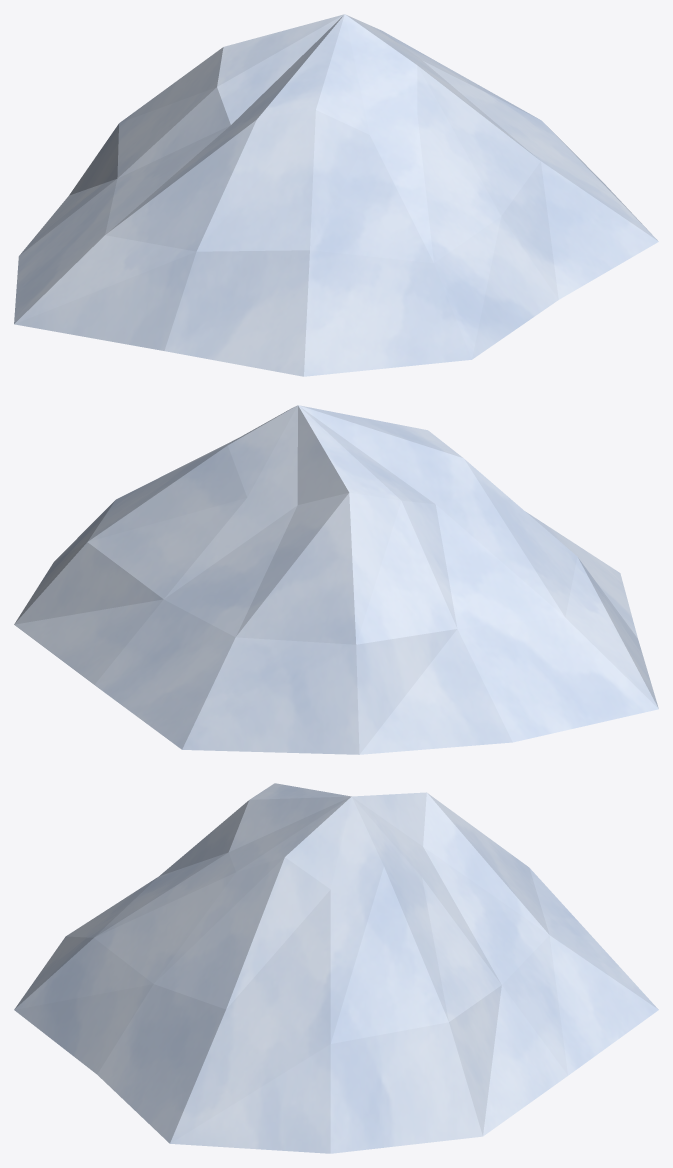
File: mound_irregular.glb
3 views of the same model, one above another, from view 1: azimuth 30°, elevation 25°; view 2: azimuth 150°, elevation 25°; view 3: azimuth 270°, elevation 25° (orthographic). The views are drawn at different scales.
Visible parts, largest first — view 1: winter_mound_irregular; view 2: winter_mound_irregular; view 3: winter_mound_irregular.
Boxes of the visible parts, x1=… form: winter_mound_irregular: x1=14, y1=14, x2=658, y2=376; winter_mound_irregular: x1=14, y1=405, x2=658, y2=754; winter_mound_irregular: x1=14, y1=783, x2=658, y2=1153.
Bounding box in the file's own units: 2.1 × 0.75 × 1.9.
1 material, 1 textured.
